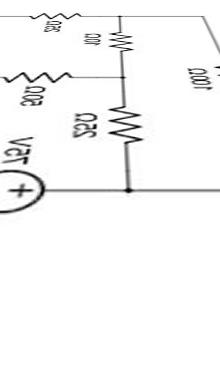resistor: (106, 95, 148, 149), (0, 64, 78, 86), (104, 20, 142, 64), (9, 7, 89, 18)
